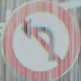Don't turn left: (10, 4, 76, 73)
